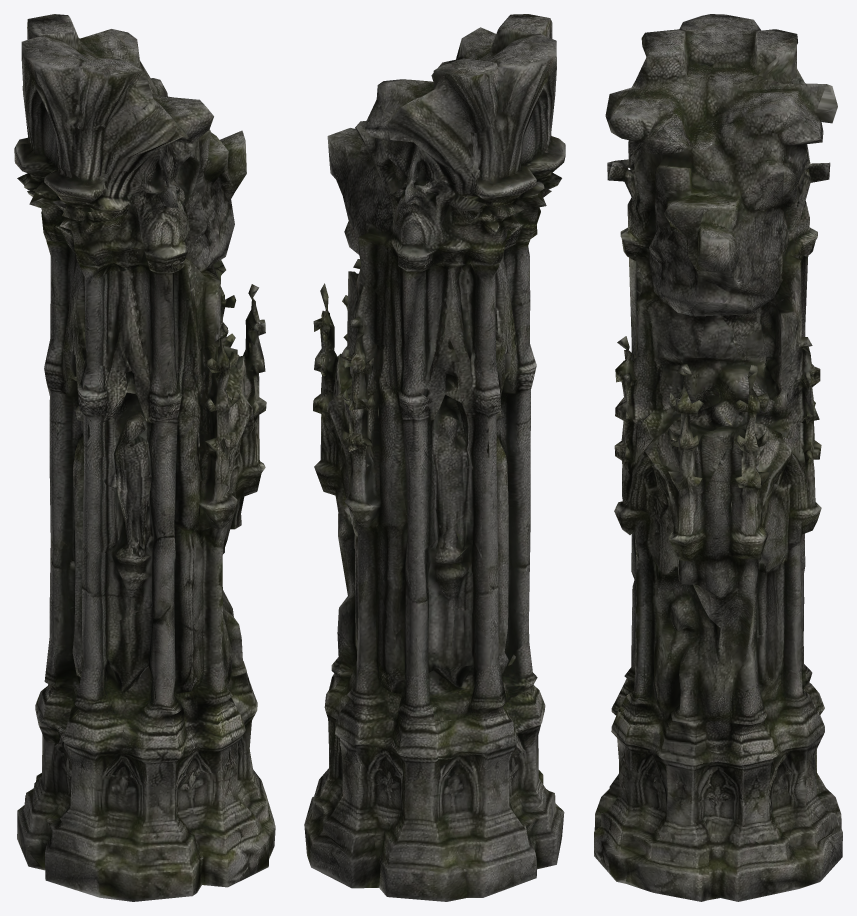
Rendered from 廃石柱1.glb.
3 views of the same model, side by side, from view 1: azimuth 30°, elevation 25°; view 2: azimuth 150°, elevation 25°; view 3: azimuth 270°, elevation 25° (orthographic). The views are drawn at different scales.
Bounding box in the file's own units: 18288 × 62054 × 17887.
1 material, 1 textured.
